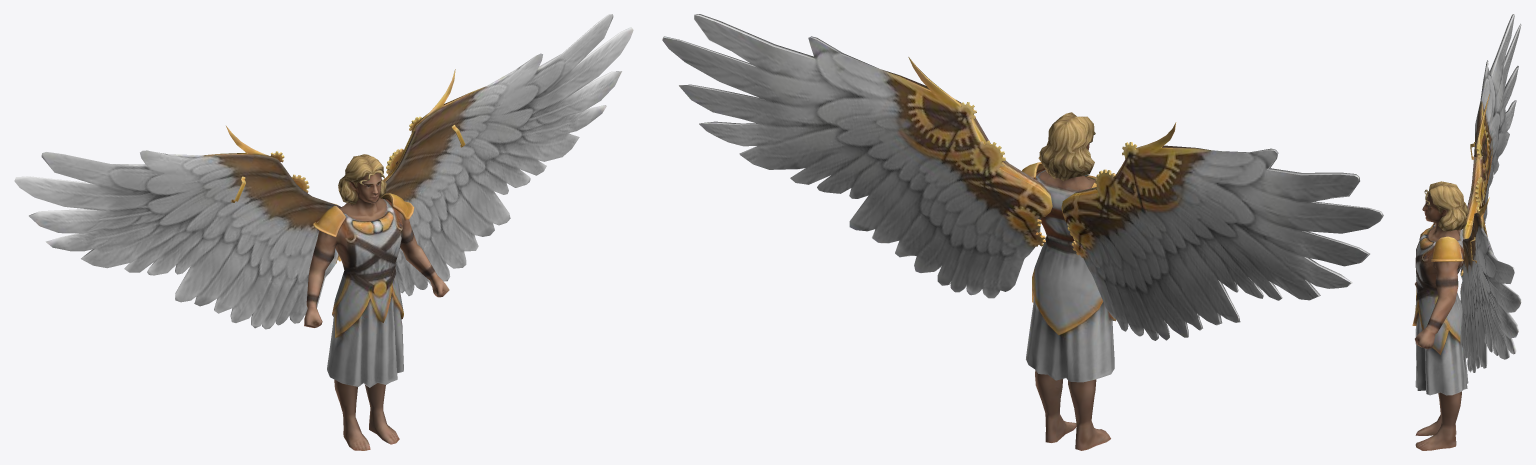
File: 155-icarus.glb
The picture shows the model from 3 angles, left to right: view 1: azimuth 30°, elevation 25°; view 2: azimuth 150°, elevation 25°; view 3: azimuth 270°, elevation 25°; orthographic projection. The views are drawn at different scales.
Bounding box in the file's own units: 5.1 × 2.57 × 0.8469.
Materials: 1 (1 with a texture image).
